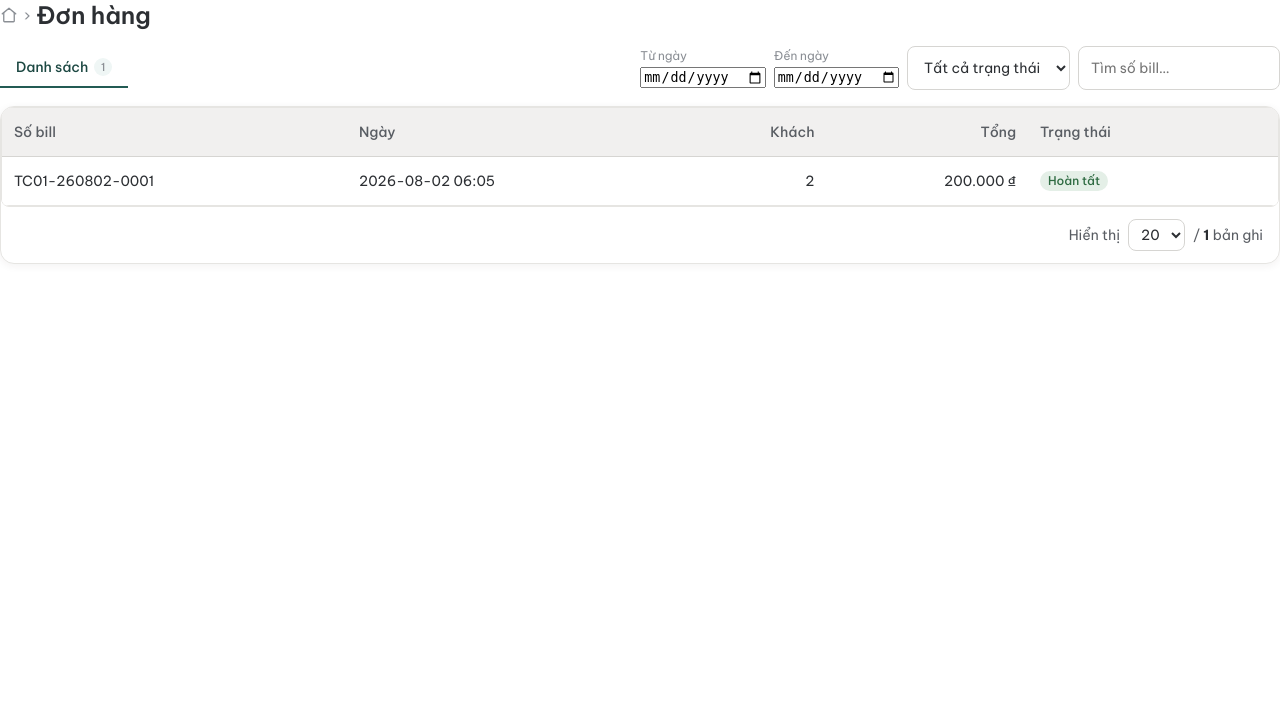
Test: OrdersPage › opens the detail drawer with lines + payments and shows the refund form for a paid bill
What coordinates should you click on to do the following:
click the text "TC01-260802-0001"
I would click on:
 (174, 181)
Its box is [2, 156, 347, 206].
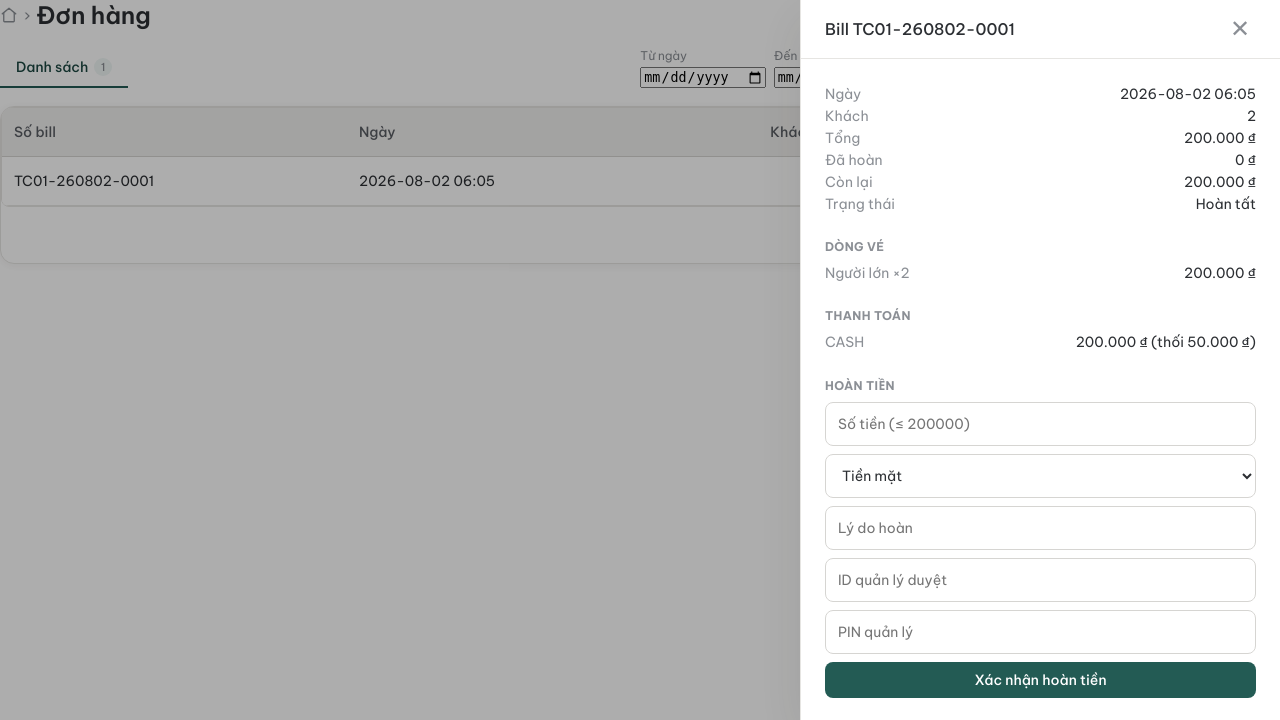
Check: the dialog "Bill TC01-260802-0001" is shown, box [800, 0, 1279, 719]
Check: the text "Người lớn ×2" is shown, box [825, 264, 910, 282]
Check: the number field named "Số tiền hoàn" is shown, box [825, 402, 1256, 446]
